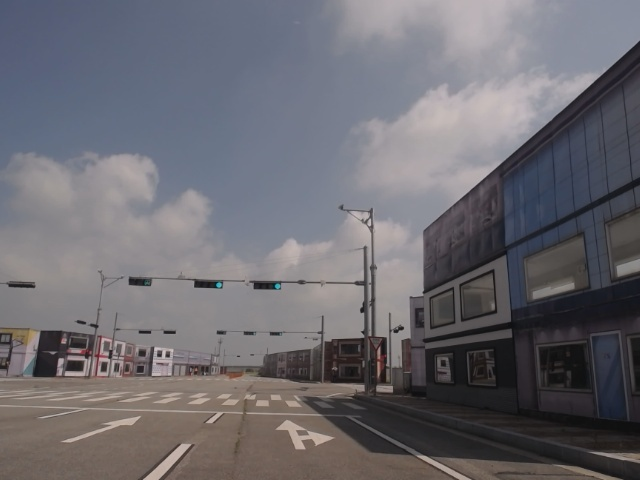straight_green_4: (194, 278, 225, 289), (254, 282, 282, 290)
